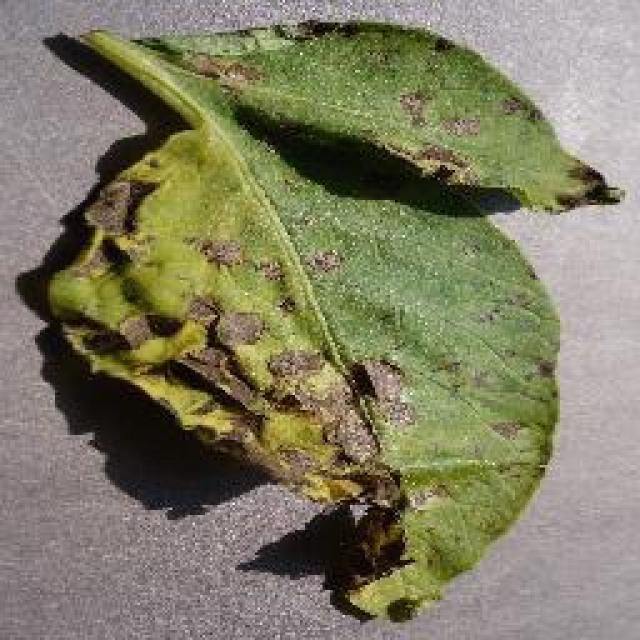Potato___Early_blight: (45, 16, 630, 622)
